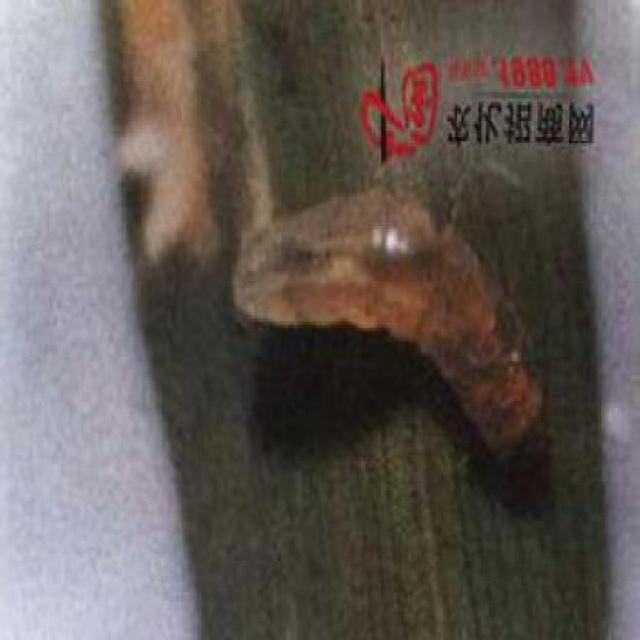whorl-maggot: (235, 194, 556, 474)
